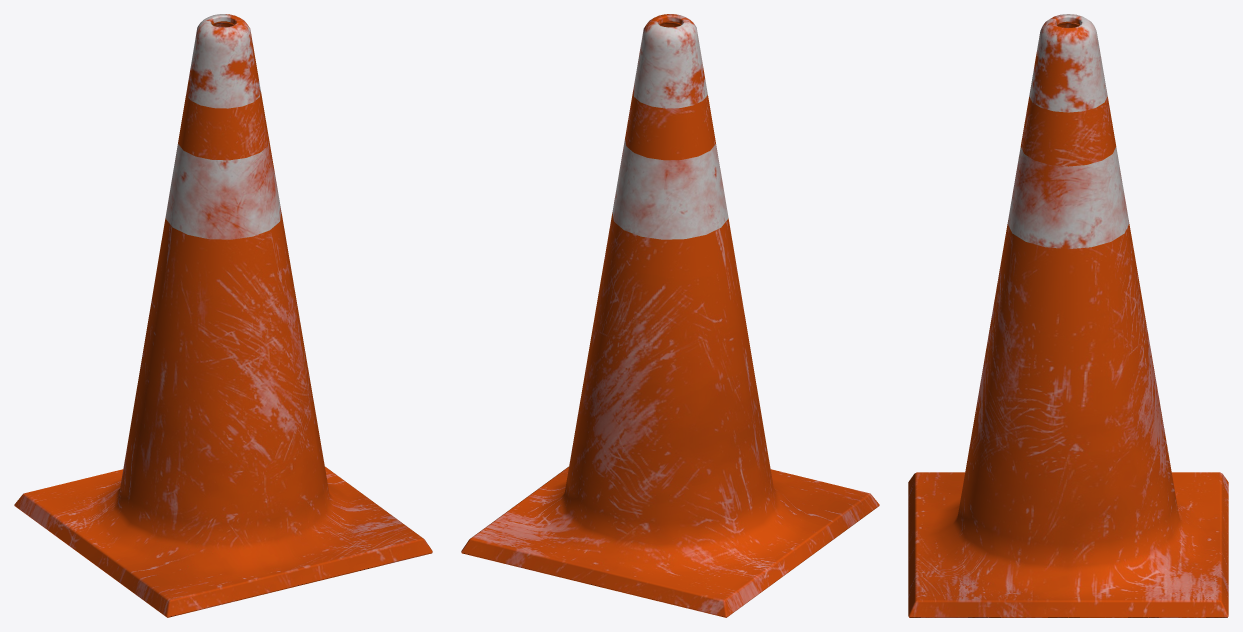
3 views of the same model, side by side, from view 1: azimuth 30°, elevation 25°; view 2: azimuth 150°, elevation 25°; view 3: azimuth 270°, elevation 25° (orthographic). The views are drawn at different scales.
Parts seen in each view (by area): view 1: Plane_Baked; view 2: Plane_Baked; view 3: Plane_Baked.
Part boxes in pixels (left/top/right/bottom): Plane_Baked: left=14, top=14, right=432, bottom=617; Plane_Baked: left=461, top=14, right=879, bottom=617; Plane_Baked: left=908, top=14, right=1228, bottom=617.
Bounding box in the file's own units: 0.3036 × 0.553 × 0.3036.
1 material, 1 textured.
